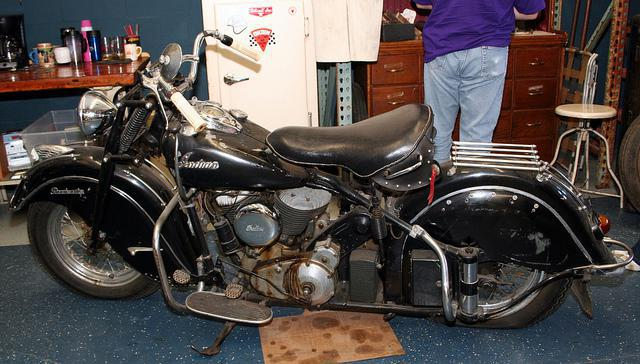hand: (514, 3, 543, 22)
